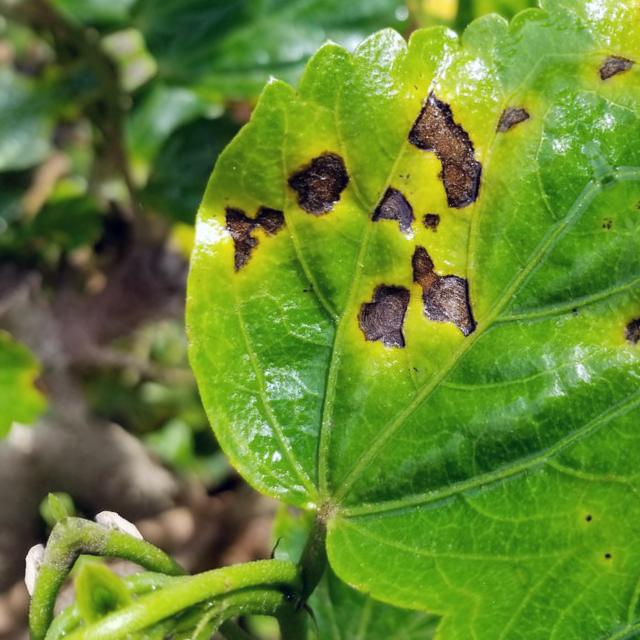Tomato leaf bacterial spot: (71, 0, 640, 640)
